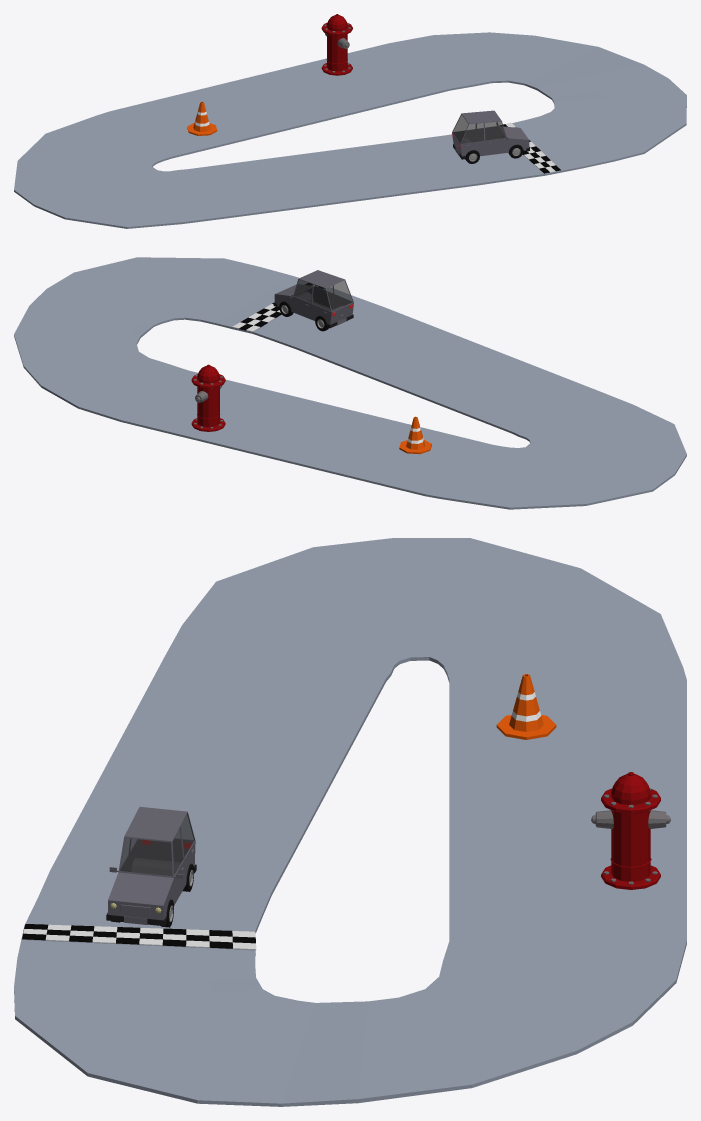
Rendered from circuit.glb.
3 views of the same model, one above another, from view 1: azimuth 30°, elevation 25°; view 2: azimuth 150°, elevation 25°; view 3: azimuth 270°, elevation 25° (orthographic). The views are drawn at different scales.
Parts seen in each view (by area): view 1: Cube.001, Car, Bouche D'incendie, Cone de Travaux; view 2: Cube.001, Car, Bouche D'incendie, Cone de Travaux; view 3: Cube.001, Car, Bouche D'incendie, Cube.002, Cube.003, Cone de Travaux.
Part boxes in pixels (bbox=[...]): Cube.001: bbox=[14, 32, 686, 228]; Car: bbox=[452, 110, 529, 163]; Bouche D'incendie: bbox=[321, 14, 352, 75]; Cone de Travaux: bbox=[187, 101, 217, 135]; Cube.001: bbox=[14, 257, 686, 509]; Car: bbox=[273, 270, 353, 331]; Bouche D'incendie: bbox=[191, 364, 225, 431]; Cone de Travaux: bbox=[399, 416, 431, 454]; Cube.001: bbox=[14, 538, 686, 1106]; Car: bbox=[106, 807, 196, 927]; Bouche D'incendie: bbox=[591, 772, 670, 889]; Cube.002: bbox=[22, 924, 255, 948]; Cube.003: bbox=[23, 924, 256, 949]; Cone de Travaux: bbox=[496, 674, 556, 739].
Size of the model in its own units: 11.27 by 1.02 by 5.67.
